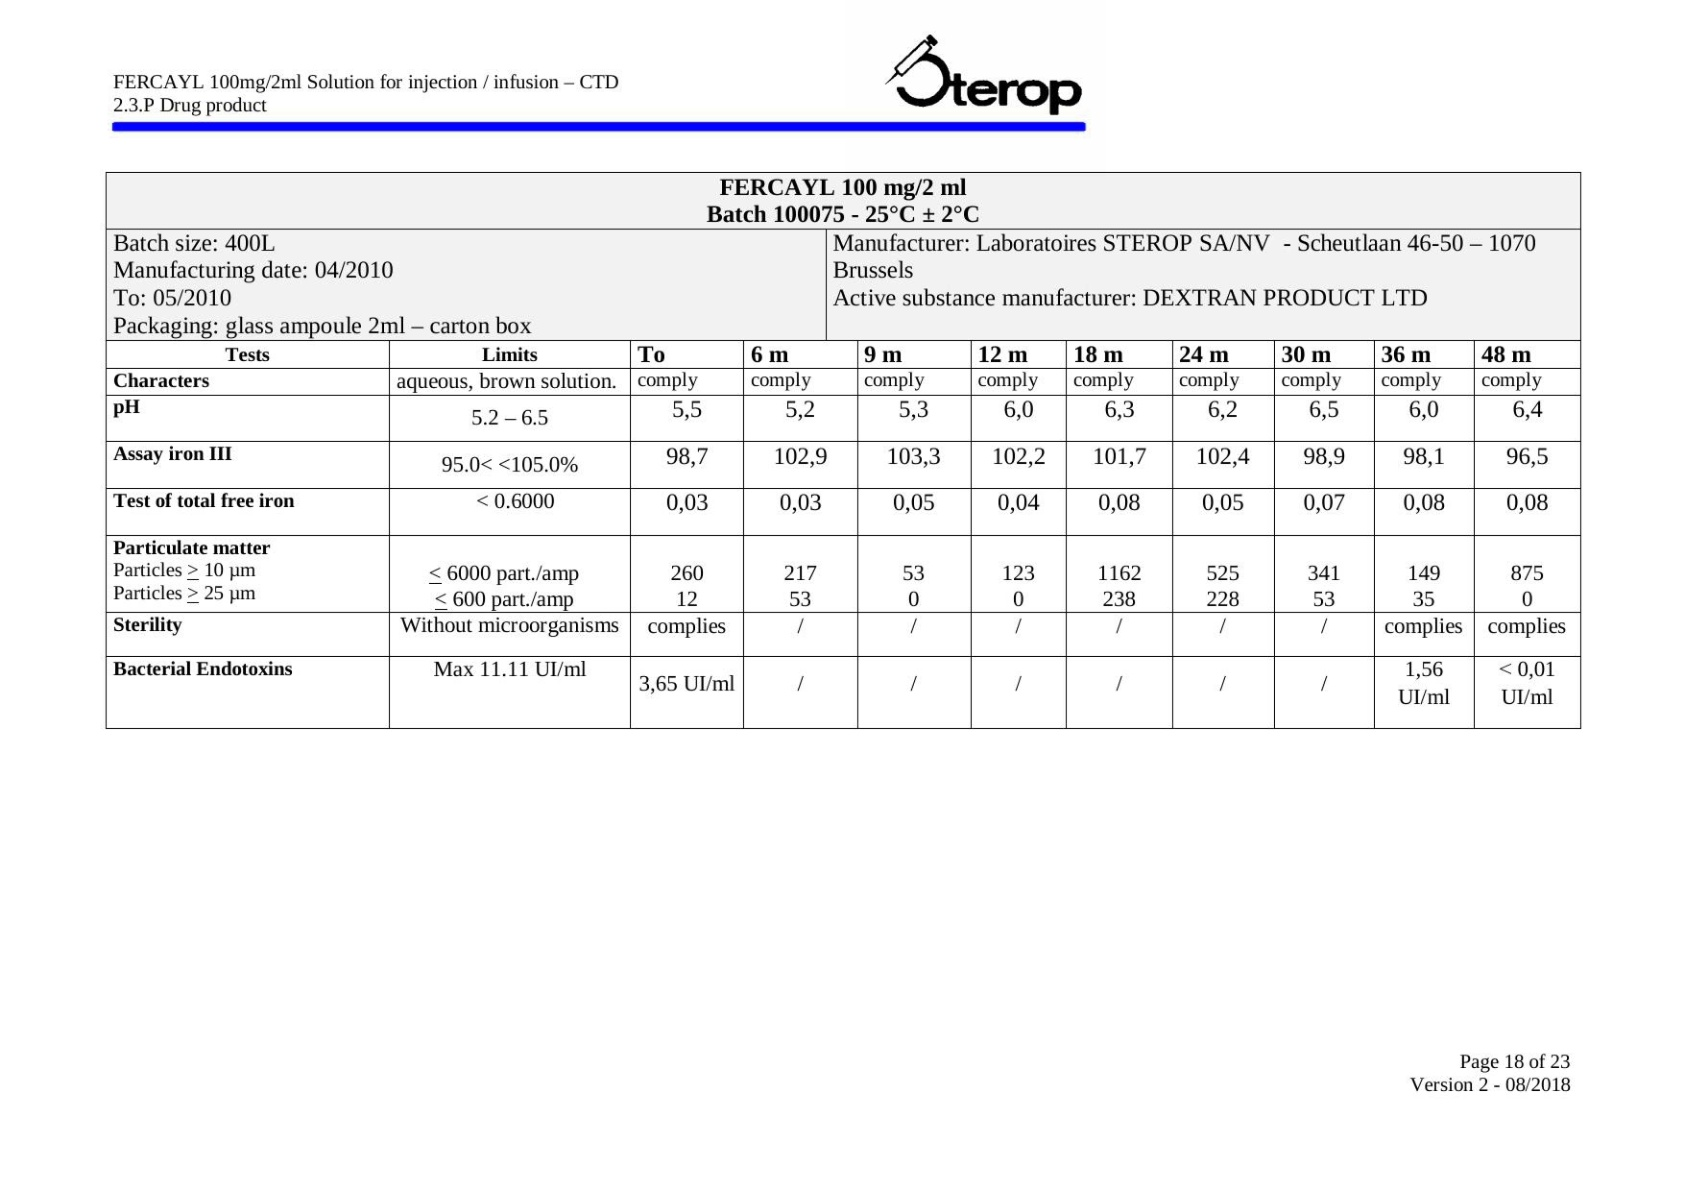merged_cells: (104, 171, 1582, 730)
